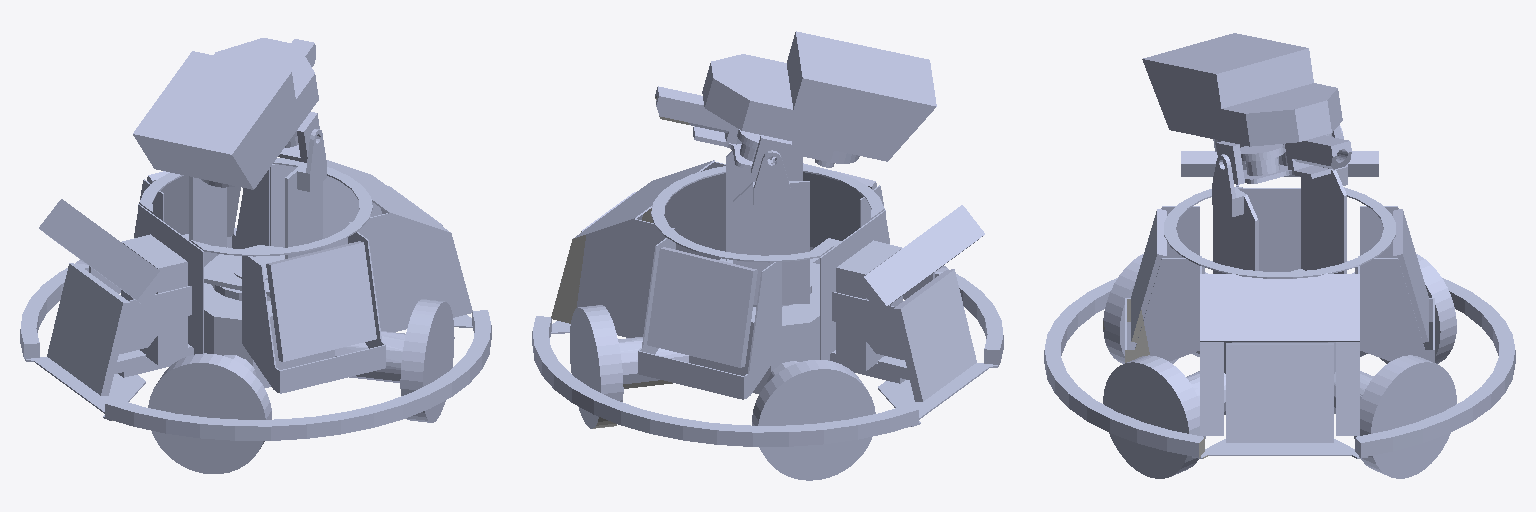
URDF robot description (omni_description):
<?xml version="1.0" encoding="utf-8"?>
<!-- This URDF was automatically created by SolidWorks to URDF Exporter!
     Originally created by Stephen Brawner (brawner@gmail.com) 
     Commit Version: 1.6.0-4-g7f85cfe  Build Version: 1.6.7995.38578
     For more information, please see http://wiki.ros.org/sw_urdf_exporter -->
<robot
  name="omni_description">
  <link
    name="omni_description">
    <inertial>
      <origin
        xyz="-0.0207018233386737 -0.00817215961892502 0.015649407107918"
        rpy="0 0 0" />
      <mass
        value="12.7253768367107" />
      <inertia
        ixx="0.101087782190489"
        ixy="-0.00261280670922718"
        ixz="0.00387243277298574"
        iyy="0.1257966048616"
        iyz="-0.000498016051037601"
        izz="0.180886583671653" />
    </inertial>
    <visual>
      <origin
        xyz="0 0 0"
        rpy="0 0 0" />
      <geometry>
        <mesh
          filename="package://omni_infantry_description/meshes/omni_description.STL" />
      </geometry>
      <material
        name="">
        <color
          rgba="0.752941176470588 0.752941176470588 0.752941176470588 1" />
      </material>
    </visual>
    <collision>
      <origin
        xyz="0 0 0"
        rpy="0 0 0" />
      <geometry>
        <mesh
          filename="package://omni_infantry_description/meshes/omni_description.STL" />
      </geometry>
    </collision>
  </link>
  <link
    name="body">
    <inertial>
      <origin
        xyz="-0.0891411750689129 -0.0282474641235061 -0.252587475455594"
        rpy="0 0 0" />
      <mass
        value="7.38762341423434" />
      <inertia
        ixx="0.0990435006357723"
        ixy="0.00938125141331102"
        ixz="0.0202276450248804"
        iyy="0.101429874601762"
        iyz="-0.00511421515719346"
        izz="0.154844092207382" />
    </inertial>
    <visual>
      <origin
        xyz="0 0 0"
        rpy="0 0 0" />
      <geometry>
        <mesh
          filename="package://omni_infantry_description/meshes/body.STL" />
      </geometry>
      <material
        name="">
        <color
          rgba="0.792156862745098 0.819607843137255 0.933333333333333 1" />
      </material>
    </visual>
    <collision>
      <origin
        xyz="0 0 0"
        rpy="0 0 0" />
      <geometry>
        <mesh
          filename="package://omni_infantry_description/meshes/body.STL" />
      </geometry>
    </collision>
  </link>
  <joint
    name="body"
    type="fixed">
    <origin
      xyz="-0.0118523156712267 0.0356448860509371 0.220657130432317"
      rpy="0 -0.257427286657566 0.586263535297581" />
    <parent
      link="omni_description" />
    <child
      link="body" />
    <axis
      xyz="0 0 0" />
  </joint>
  <link
    name="front_left_wheel">
    <inertial>
      <origin
        xyz="-0.0145 0 -1.11022302462516E-16"
        rpy="0 0 0" />
      <mass
        value="0.533176182602155" />
      <inertia
        ixx="0.00156014015731673"
        ixy="8.13151629364128E-20"
        ixz="3.92107847703925E-20"
        iyy="0.000817436842789067"
        iyz="1.0405631885096E-19"
        izz="0.000817436842789067" />
    </inertial>
    <visual>
      <origin
        xyz="0 0 0"
        rpy="0 0 0" />
      <geometry>
        <mesh
          filename="package://omni_infantry_description/meshes/front_left_wheel.STL" />
      </geometry>
      <material
        name="">
        <color
          rgba="0.792156862745098 0.819607843137255 0.933333333333333 1" />
      </material>
    </visual>
    <collision>
      <origin
        xyz="0 0 0"
        rpy="0 0 0" />
      <geometry>
        <mesh
          filename="package://omni_infantry_description/meshes/front_left_wheel.STL" />
      </geometry>
    </collision>
  </link>
  <joint
    name="front_left_wheel"
    type="continuous">
    <origin
      xyz="0.13532 0.01052 -0.35759"
      rpy="0.052033 0.25223 0.20573" />
    <parent
      link="body" />
    <child
      link="front_left_wheel" />
    <axis
      xyz="1 0 0" />
    <limit
      lower="0"
      upper="0"
      effort="0"
      velocity="0" />
  </joint>
  <link
    name="front_right_wheel">
    <inertial>
      <origin
        xyz="-0.0145 -1.38777878078145E-17 -1.11022302462516E-16"
        rpy="0 0 0" />
      <mass
        value="0.533176182602155" />
      <inertia
        ixx="0.00156014015731673"
        ixy="0"
        ixz="9.67092878960191E-20"
        iyy="0.000817436842789067"
        iyz="4.59189434683823E-20"
        izz="0.000817436842789066" />
    </inertial>
    <visual>
      <origin
        xyz="0 0 0"
        rpy="0 0 0" />
      <geometry>
        <mesh
          filename="package://omni_infantry_description/meshes/front_right_wheel.STL" />
      </geometry>
      <material
        name="">
        <color
          rgba="0.792156862745098 0.819607843137255 0.933333333333333 1" />
      </material>
    </visual>
    <collision>
      <origin
        xyz="0 0 0"
        rpy="0 0 0" />
      <geometry>
        <mesh
          filename="package://omni_infantry_description/meshes/front_right_wheel.STL" />
      </geometry>
    </collision>
  </link>
  <joint
    name="front_right_wheel"
    type="continuous">
    <origin
      xyz="-0.043633 -0.268 -0.31076"
      rpy="-0.25256 0.050385 -1.3781" />
    <parent
      link="body" />
    <child
      link="front_right_wheel" />
    <axis
      xyz="1 0 0" />
    <limit
      lower="0"
      upper="0"
      effort="0"
      velocity="0" />
  </joint>
  <link
    name="back_left_wheel">
    <inertial>
      <origin
        xyz="-0.0145 -1.38777878078145E-17 0"
        rpy="0 0 0" />
      <mass
        value="0.533176182602155" />
      <inertia
        ixx="0.00156014015731673"
        ixy="0"
        ixz="-1.14198415930064E-20"
        iyy="0.000817436842789067"
        iyz="-5.8057516350459E-20"
        izz="0.000817436842789067" />
    </inertial>
    <visual>
      <origin
        xyz="0 0 0"
        rpy="0 0 0" />
      <geometry>
        <mesh
          filename="package://omni_infantry_description/meshes/back_left_wheel.STL" />
      </geometry>
      <material
        name="">
        <color
          rgba="0.792156862745098 0.819607843137255 0.933333333333333 1" />
      </material>
    </visual>
    <collision>
      <origin
        xyz="0 0 0"
        rpy="0 0 0" />
      <geometry>
        <mesh
          filename="package://omni_infantry_description/meshes/back_left_wheel.STL" />
      </geometry>
    </collision>
  </link>
  <joint
    name="back_left_wheel"
    type="continuous">
    <origin
      xyz="-0.13409 0.1955 -0.28694"
      rpy="0.25256 -0.050385 1.7635" />
    <parent
      link="body" />
    <child
      link="back_left_wheel" />
    <axis
      xyz="-1 0 0" />
    <limit
      lower="0"
      upper="0"
      effort="0"
      velocity="0" />
  </joint>
  <link
    name="back_right_wheel">
    <inertial>
      <origin
        xyz="-0.0145 2.77555756156289E-17 -1.11022302462516E-16"
        rpy="0 0 0" />
      <mass
        value="0.533176182602155" />
      <inertia
        ixx="0.00156014015731673"
        ixy="-5.42101086242752E-20"
        ixz="-2.99471370445972E-20"
        iyy="0.000817436842789066"
        iyz="8.52095872708936E-20"
        izz="0.000817436842789066" />
    </inertial>
    <visual>
      <origin
        xyz="0 0 0"
        rpy="0 0 0" />
      <geometry>
        <mesh
          filename="package://omni_infantry_description/meshes/back_right_wheel.STL" />
      </geometry>
      <material
        name="">
        <color
          rgba="0.792156862745098 0.819607843137255 0.933333333333333 1" />
      </material>
    </visual>
    <collision>
      <origin
        xyz="0 0 0"
        rpy="0 0 0" />
      <geometry>
        <mesh
          filename="package://omni_infantry_description/meshes/back_right_wheel.STL" />
      </geometry>
    </collision>
  </link>
  <joint
    name="back_right_wheel"
    type="continuous">
    <origin
      xyz="-0.31291 -0.08302 -0.23959"
      rpy="-0.052033 -0.25223 -2.9359" />
    <parent
      link="body" />
    <child
      link="back_right_wheel" />
    <axis
      xyz="-1 0 0" />
    <limit
      lower="0"
      upper="0"
      effort="0"
      velocity="0" />
  </joint>
  <link
    name="gimbol_yaw">
    <inertial>
      <origin
        xyz="-0.000418768299019823 -3.85108611666851E-16 -0.0356697610188733"
        rpy="0 0 0" />
      <mass
        value="0.296006965244182" />
      <inertia
        ixx="0.00245101679694452"
        ixy="-1.0842021724855E-19"
        ixz="1.00776769706154E-05"
        iyy="0.00145725788442021"
        iyz="6.31886578651708E-19"
        izz="0.00136511673062511" />
    </inertial>
    <visual>
      <origin
        xyz="0 0 0"
        rpy="0 0 0" />
      <geometry>
        <mesh
          filename="package://omni_infantry_description/meshes/gimbol_yaw.STL" />
      </geometry>
      <material
        name="">
        <color
          rgba="0.792156862745098 0.819607843137255 0.933333333333333 1" />
      </material>
    </visual>
    <collision>
      <origin
        xyz="0 0 0"
        rpy="0 0 0" />
      <geometry>
        <mesh
          filename="package://omni_infantry_description/meshes/gimbol_yaw.STL" />
      </geometry>
    </collision>
  </link>
  <joint
    name="gimbol_yaw"
    type="continuous">
    <origin
      xyz="-0.036779 -0.03625 -0.10102"
      rpy="0 0.25743 0" />
    <parent
      link="body" />
    <child
      link="gimbol_yaw" />
    <axis
      xyz="0 0 -1" />
    <limit
      lower="0"
      upper="0"
      effort="0"
      velocity="0" />
  </joint>
  <link
    name="gimbol_pitch">
    <inertial>
      <origin
        xyz="-0.0540675175179778 -5.25311614346657E-09 0.0537776989933929"
        rpy="0 0 0" />
      <mass
        value="2.85600268929187" />
      <inertia
        ixx="0.0064336238659403"
        ixy="1.2183216105585E-10"
        ixz="0.00134212238936282"
        iyy="0.0129875963565574"
        iyz="3.7263416362041E-10"
        izz="0.0149318473098399" />
    </inertial>
    <visual>
      <origin
        xyz="0 0 0"
        rpy="0 0 0" />
      <geometry>
        <mesh
          filename="package://omni_infantry_description/meshes/gimbol_pitch.STL" />
      </geometry>
      <material
        name="">
        <color
          rgba="0.792156862745098 0.819607843137255 0.933333333333333 1" />
      </material>
    </visual>
    <collision>
      <origin
        xyz="0 0 0"
        rpy="0 0 0" />
      <geometry>
        <mesh
          filename="package://omni_infantry_description/meshes/gimbol_pitch.STL" />
      </geometry>
    </collision>
  </link>
  <joint
    name="gimbol_pitch"
    type="revolute">
    <origin
      xyz="0 0 0.0934"
      rpy="0 -0.25743 0" />
    <parent
      link="gimbol_yaw" />
    <child
      link="gimbol_pitch" />
    <axis
      xyz="0 -1 0" />
    <limit
      lower="0"
      upper="0"
      effort="0"
      velocity="0" />
  </joint>
  <link
    name="left_launch">
    <inertial>
      <origin
        xyz="-2.77555756156289E-17 6.93889390390723E-18 -0.00484999999999991"
        rpy="0 0 0" />
      <mass
        value="0.0265195187658292" />
      <inertia
        ixx="5.9775879282138E-06"
        ixy="-4.67165284815436E-22"
        ixz="6.35274710440725E-22"
        iyy="5.97758792821379E-06"
        iyz="1.29826492595911E-21"
        izz="1.15393056029814E-05" />
    </inertial>
    <visual>
      <origin
        xyz="0 0 0"
        rpy="0 0 0" />
      <geometry>
        <mesh
          filename="package://omni_infantry_description/meshes/left_launch.STL" />
      </geometry>
      <material
        name="">
        <color
          rgba="0.792156862745098 0.819607843137255 0.933333333333333 1" />
      </material>
    </visual>
    <collision>
      <origin
        xyz="0 0 0"
        rpy="0 0 0" />
      <geometry>
        <mesh
          filename="package://omni_infantry_description/meshes/left_launch.STL" />
      </geometry>
    </collision>
  </link>
  <joint
    name="left_launch"
    type="continuous">
    <origin
      xyz="0.013 0.03625 0.0107"
      rpy="0 0 0" />
    <parent
      link="gimbol_pitch" />
    <child
      link="left_launch" />
    <axis
      xyz="0 0 -1" />
    <limit
      lower="0"
      upper="0"
      effort="0"
      velocity="0" />
  </joint>
  <link
    name="right_launch">
    <inertial>
      <origin
        xyz="2.77555756156289E-17 1.73472347597681E-18 -0.00484999999999991"
        rpy="0 0 0" />
      <mass
        value="0.0265195187658292" />
      <inertia
        ixx="5.9775879282138E-06"
        ixy="-3.76709637678514E-22"
        ixz="1.05879118406788E-22"
        iyy="5.97758792821379E-06"
        iyz="1.4929471988187E-22"
        izz="1.15393056029814E-05" />
    </inertial>
    <visual>
      <origin
        xyz="0 0 0"
        rpy="0 0 0" />
      <geometry>
        <mesh
          filename="package://omni_infantry_description/meshes/right_launch.STL" />
      </geometry>
      <material
        name="">
        <color
          rgba="0.792156862745098 0.819607843137255 0.933333333333333 1" />
      </material>
    </visual>
    <collision>
      <origin
        xyz="0 0 0"
        rpy="0 0 0" />
      <geometry>
        <mesh
          filename="package://omni_infantry_description/meshes/right_launch.STL" />
      </geometry>
    </collision>
  </link>
  <joint
    name="right_launch"
    type="continuous">
    <origin
      xyz="0.013 -0.03625 0.0107"
      rpy="0 0 0" />
    <parent
      link="gimbol_pitch" />
    <child
      link="right_launch" />
    <axis
      xyz="0 0 -1" />
    <limit
      lower="0"
      upper="0"
      effort="0"
      velocity="0" />
  </joint>
</robot>

--- Render facts (derived) ---
3 views of the same robot in one strip: view 1: azimuth 30°, elevation 25°; view 2: azimuth 150°, elevation 25°; view 3: azimuth 270°, elevation 25° (orthographic).
Robot: omni_description — 10 links, 9 joints (1 revolute, 7 continuous, 1 fixed); root link omni_description; default pose: every joint at zero.
Links seen in each view (by area): view 1: back_left_wheel, back_right_wheel, front_left_wheel, gimbol_yaw, front_right_wheel, gimbol_pitch, right_launch; view 2: front_right_wheel, back_left_wheel, front_left_wheel, gimbol_yaw, omni_description, gimbol_pitch, right_launch; view 3: back_right_wheel, front_right_wheel, back_left_wheel, gimbol_pitch, gimbol_yaw, right_launch, omni_description.
Boxes of the visible links, x1,y1,x2,y2 form: back_left_wheel: (21, 38, 472, 473); back_right_wheel: (36, 44, 491, 448); front_left_wheel: (20, 58, 474, 395); gimbol_yaw: (99, 129, 479, 426); front_right_wheel: (54, 160, 413, 401); gimbol_pitch: (234, 40, 490, 418); right_launch: (234, 167, 488, 411); front_right_wheel: (532, 32, 999, 480); back_left_wheel: (549, 31, 1003, 432); front_left_wheel: (549, 96, 952, 474); gimbol_yaw: (715, 70, 1001, 325); omni_description: (551, 96, 689, 428); gimbol_pitch: (533, 160, 716, 392); right_launch: (535, 169, 715, 404); back_right_wheel: (1047, 59, 1498, 478); front_right_wheel: (1061, 48, 1515, 478); back_left_wheel: (1044, 33, 1514, 398); gimbol_pitch: (1103, 239, 1492, 457); gimbol_yaw: (1045, 63, 1260, 419); right_launch: (1103, 201, 1498, 457); omni_description: (1103, 299, 1207, 458).
Bounding box of the posed robot: 0.5535 × 0.589 × 0.4795 m (x, y, z).
Meshes: 10 distinct files referenced, 8 mesh visuals loaded (8 binary STL); not drawn: 2 (reference not matched to a file when rendering).
